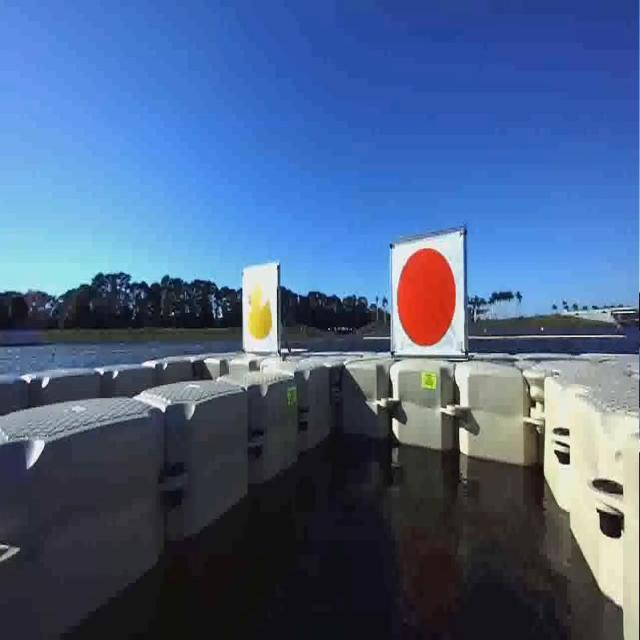red-dot: (390, 234, 458, 350)
yellow-duck: (242, 271, 281, 351)
